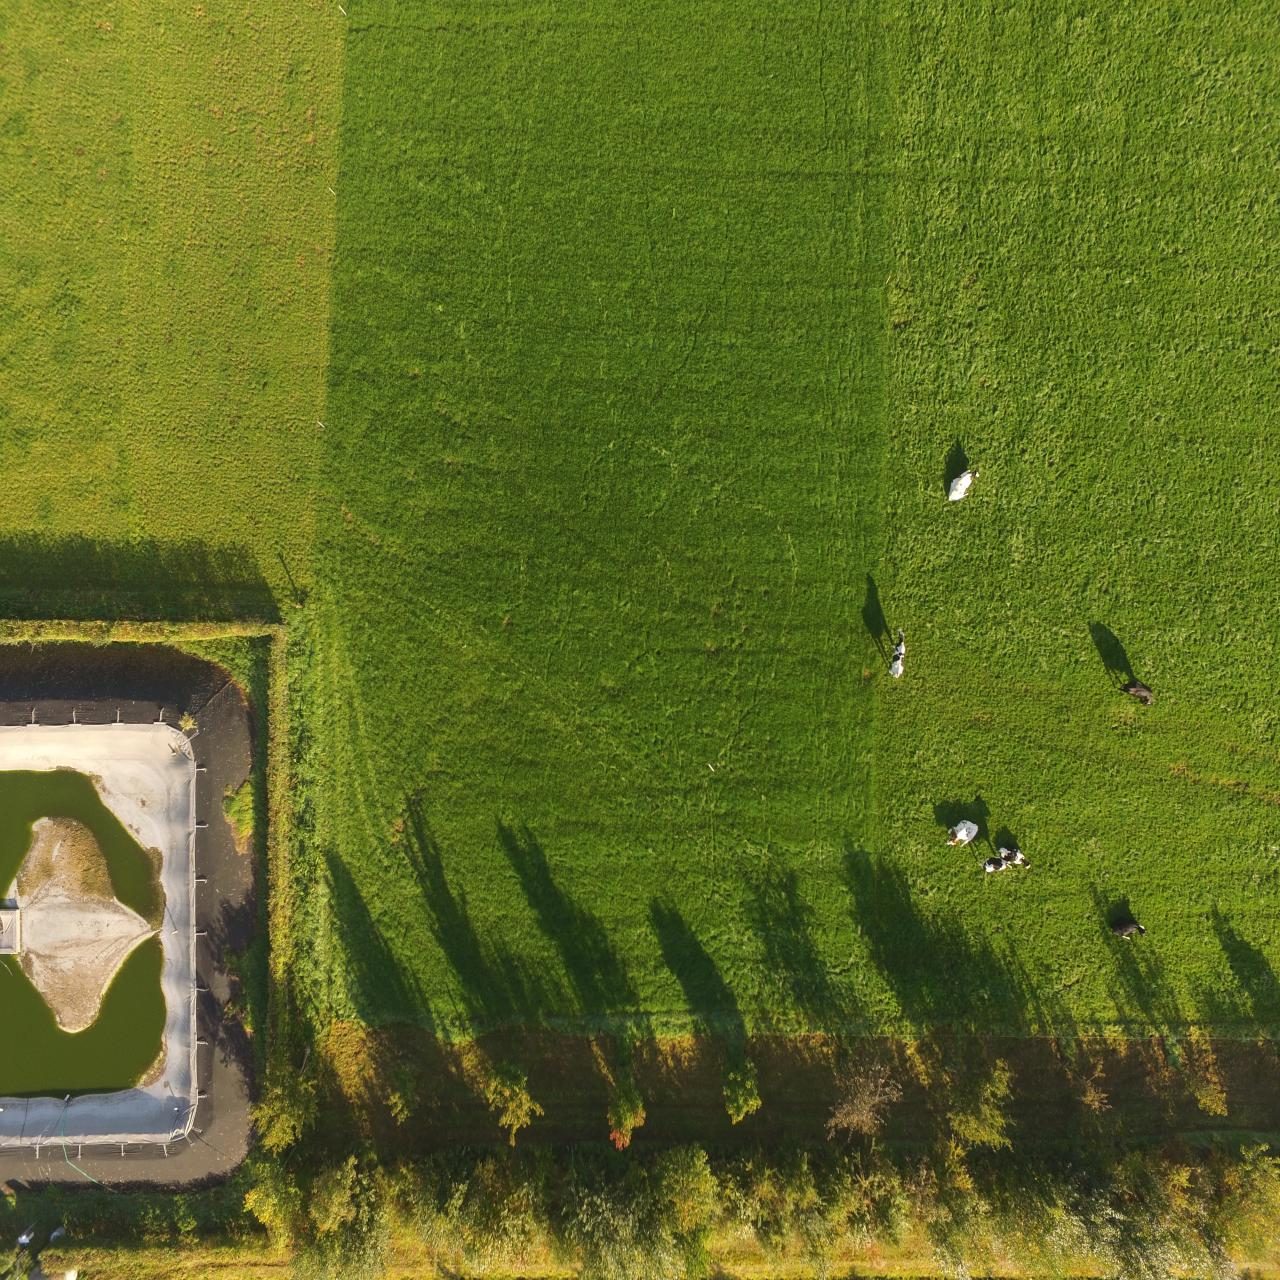cow: (983, 839, 1029, 888), (1124, 663, 1158, 722), (945, 806, 979, 852), (944, 463, 980, 505), (1108, 911, 1148, 948), (885, 625, 908, 682)
